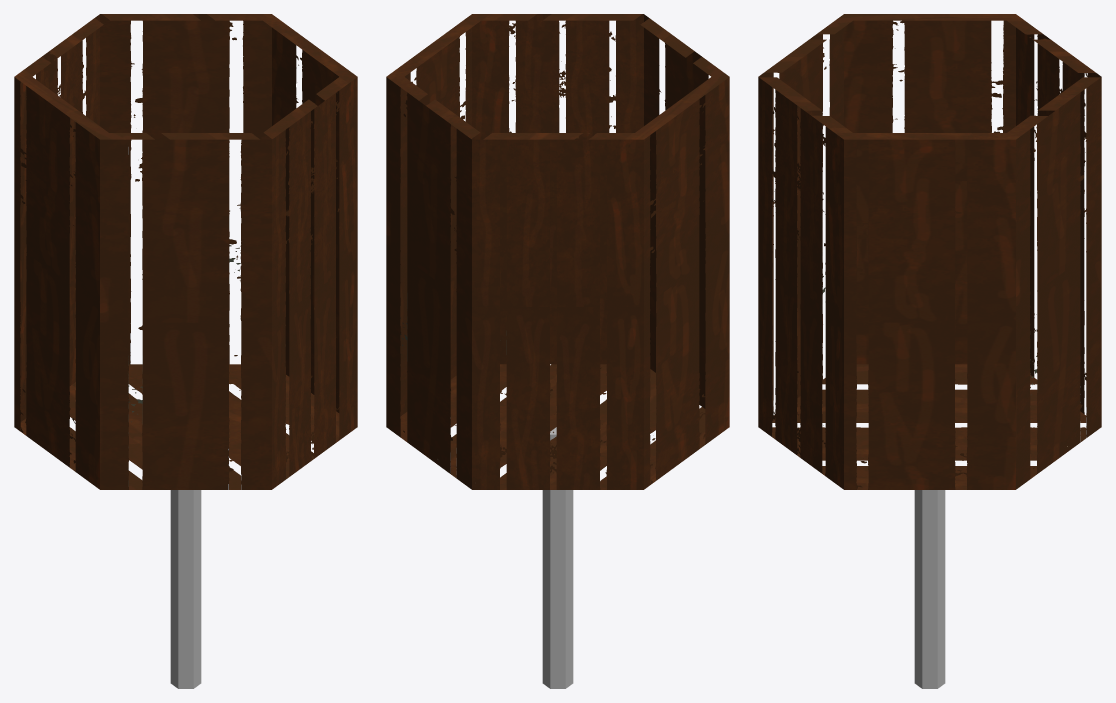
File: OutSideBin_Clean.fbx
3 renders of one model, left to right at view 1: azimuth 30°, elevation 25°; view 2: azimuth 150°, elevation 25°; view 3: azimuth 270°, elevation 25°, orthographic.
Parts seen in each view (by area): view 1: OutSideBin_Clean; view 2: OutSideBin_Clean; view 3: OutSideBin_Clean.
Part boxes in pixels (x1=…): OutSideBin_Clean: x1=14, y1=14, x2=357, y2=688; OutSideBin_Clean: x1=386, y1=14, x2=729, y2=688; OutSideBin_Clean: x1=758, y1=14, x2=1101, y2=688.
Size of the model in its own units: 90.69 by 204 by 105.
